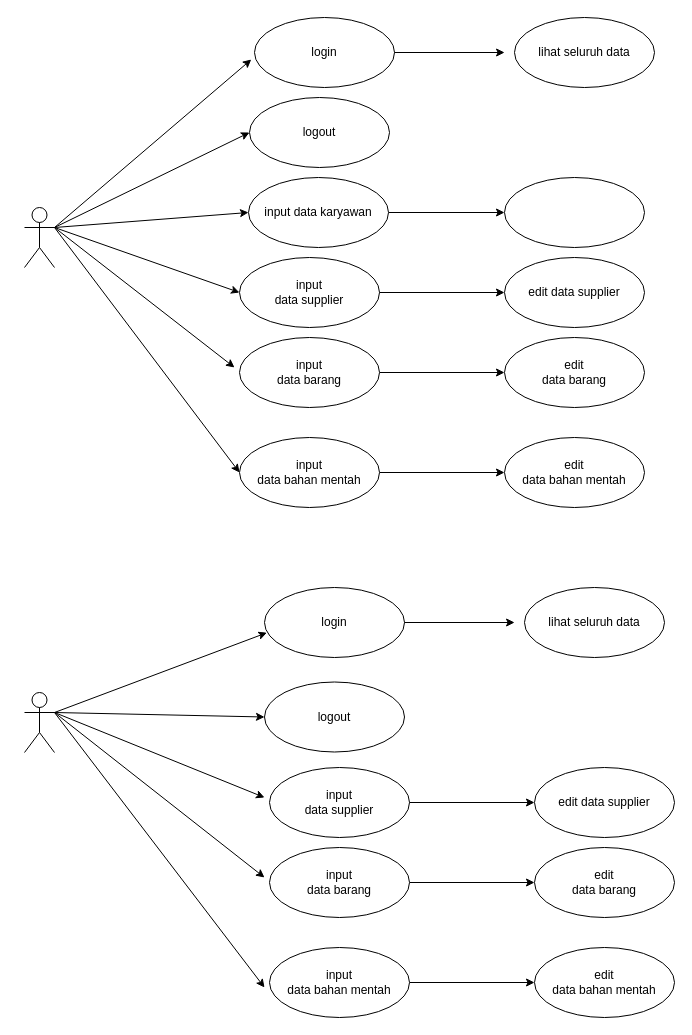
Some shapes in this 692 by 1035 pixel diagram are drawn without their labels. The box of each missing label's shape, as (x1, y1, x2, y2) in pixels:
admin: (24, 206, 54, 268)
edit data karyawan: (504, 176, 644, 248)
pegawai: (24, 692, 54, 752)
